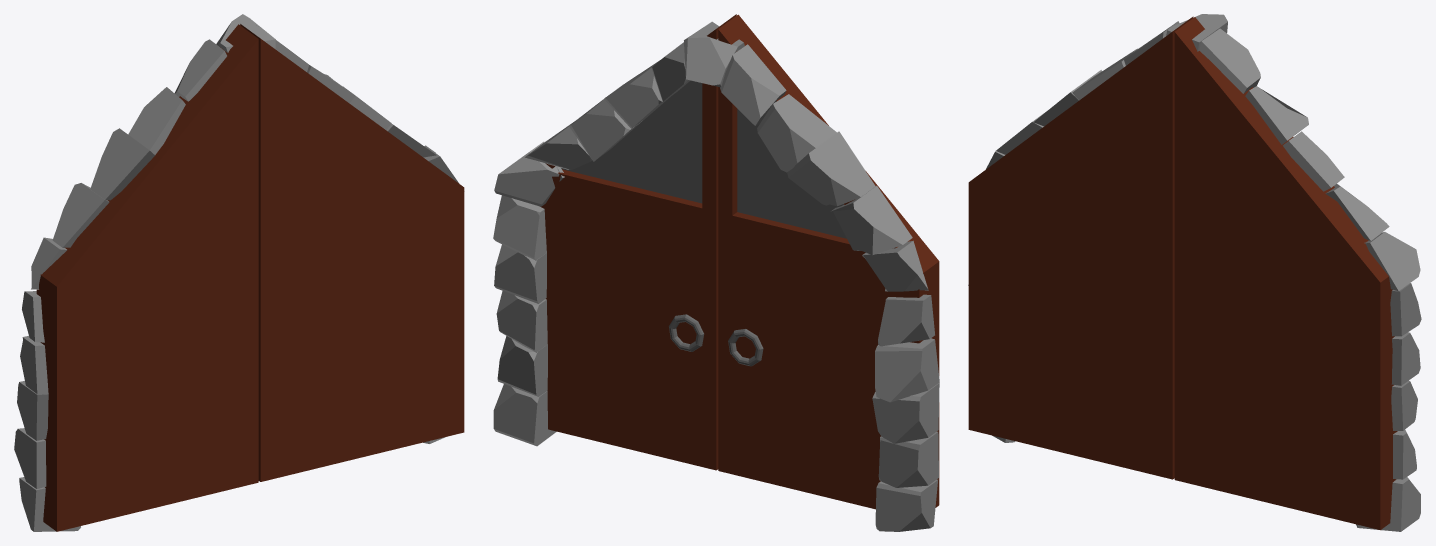
File: Door.fbx
3 views of the same model, side by side, from view 1: azimuth 30°, elevation 25°; view 2: azimuth 150°, elevation 25°; view 3: azimuth 330°, elevation 25° (orthographic).
Visible parts, largest first — view 1: DoorBaked; view 2: DoorBaked; view 3: DoorBaked.
Boxes of the visible parts, x1,y1,x2,y2 form: DoorBaked: [14, 14, 464, 531]; DoorBaked: [493, 14, 939, 531]; DoorBaked: [968, 14, 1421, 531].
Size of the model in its own units: 167 by 170 by 26.47.
